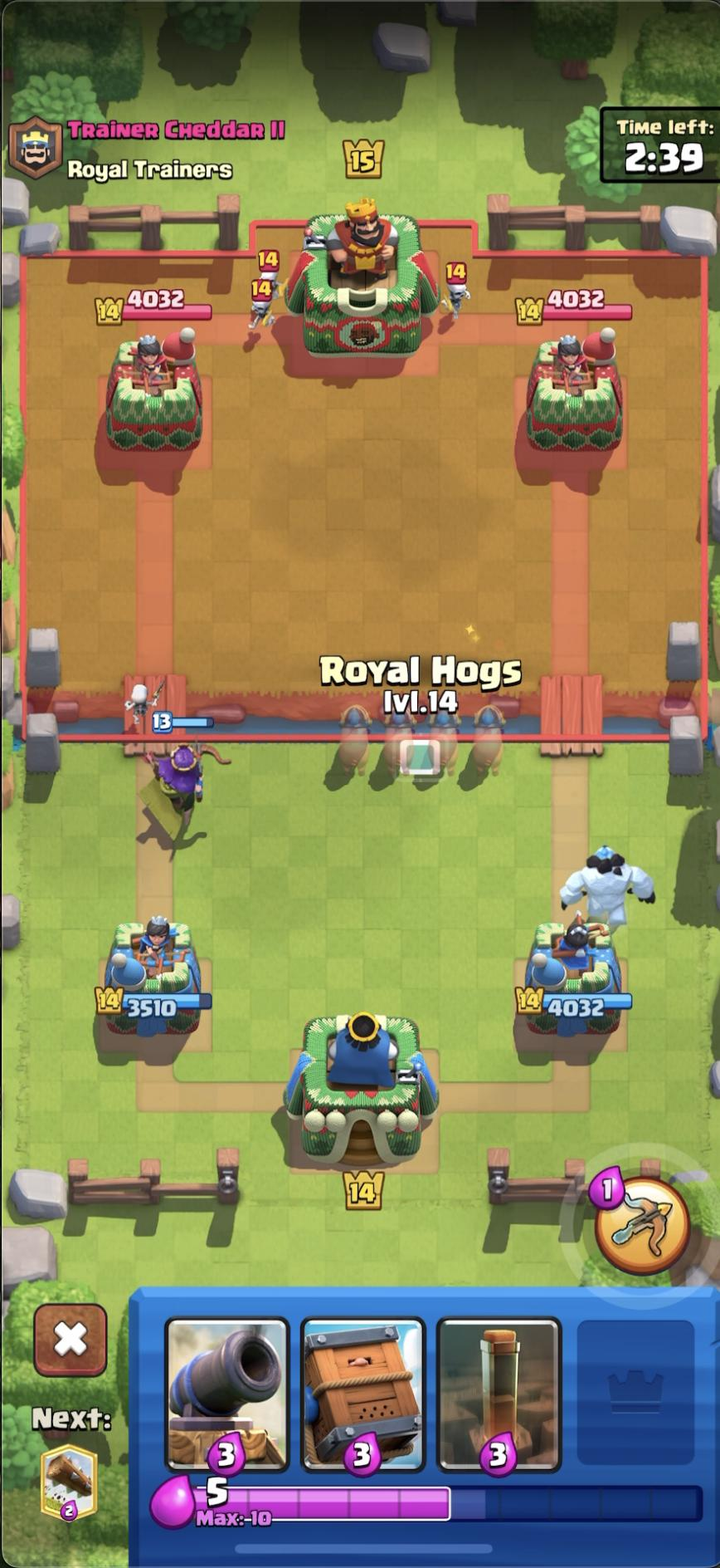card_cannon: (163, 1315, 291, 1474)
card_earthquake: (434, 1315, 566, 1475)
card_log: (39, 1443, 102, 1523)
card_royaldelivery: (298, 1313, 428, 1477)
